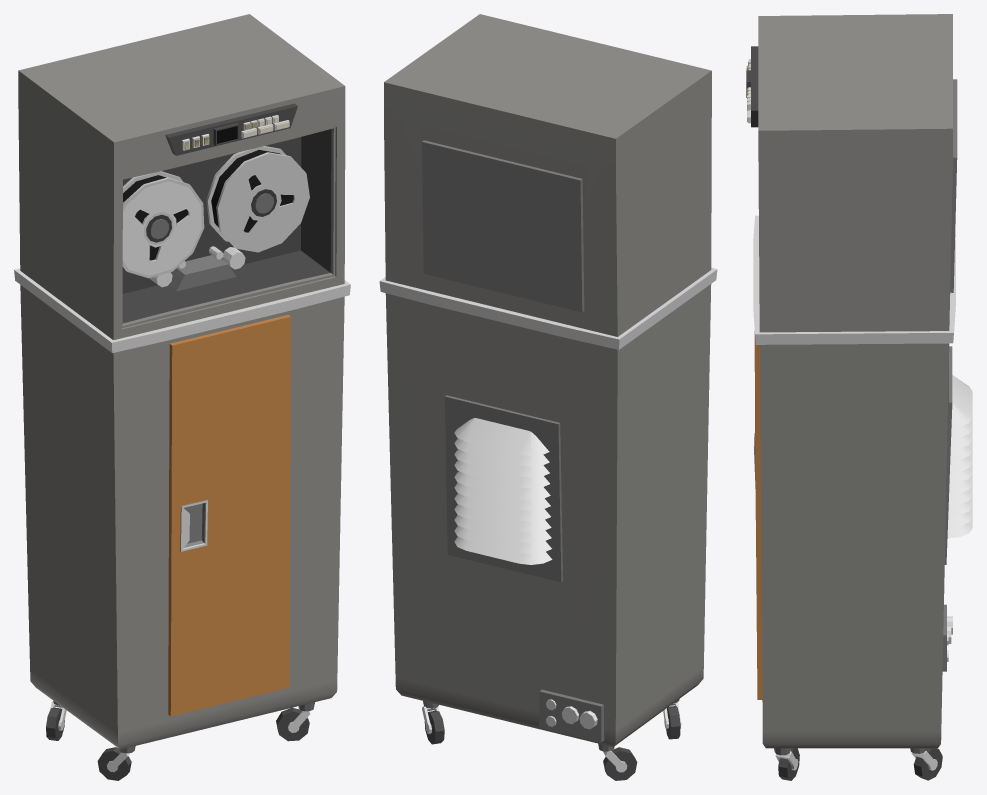
Rendered from officeRecorderOrange.glb.
3 renders of one model, left to right at view 1: azimuth 30°, elevation 25°; view 2: azimuth 150°, elevation 25°; view 3: azimuth 270°, elevation 25°, orthographic.
Parts seen in each view (by area): view 1: Cube.022_1; view 2: Cube.022_1; view 3: Cube.022_1.
Boxes of the visible parts, bbox=[...] form: Cube.022_1: bbox=[14, 14, 350, 780]; Cube.022_1: bbox=[379, 14, 717, 780]; Cube.022_1: bbox=[746, 14, 972, 780].
Size of the model in its own units: 0.8364 by 2.19 by 0.674.
